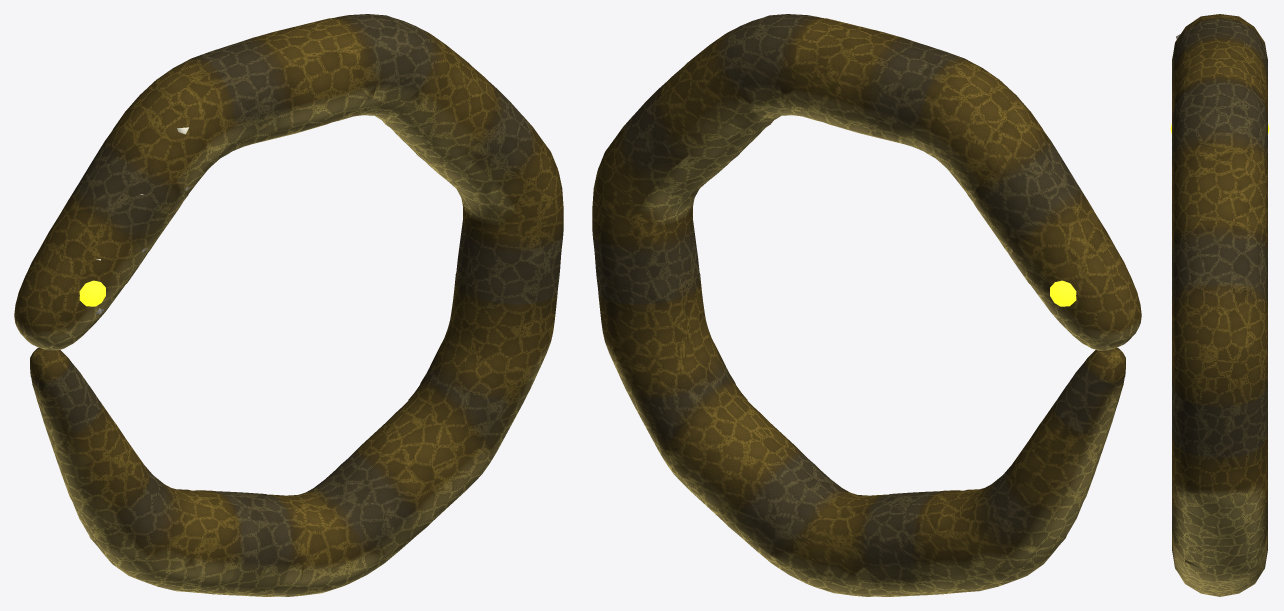
The model's file is hoop-snake.glb.
3 views of the same model, side by side, from view 1: azimuth 30°, elevation 25°; view 2: azimuth 150°, elevation 25°; view 3: azimuth 270°, elevation 25° (orthographic). The views are drawn at different scales.
Parts seen in each view (by area): view 1: hoop-snake.001; view 2: hoop-snake.001; view 3: hoop-snake.001.
Part boxes in pixels (x1,y1,x2,y2): hoop-snake.001: (14, 14, 563, 596); hoop-snake.001: (592, 14, 1141, 596); hoop-snake.001: (1170, 14, 1269, 596).
Bounding box in the file's own units: 0.761 × 0.758 × 0.13.
Materials: 4 (1 with a texture image).
